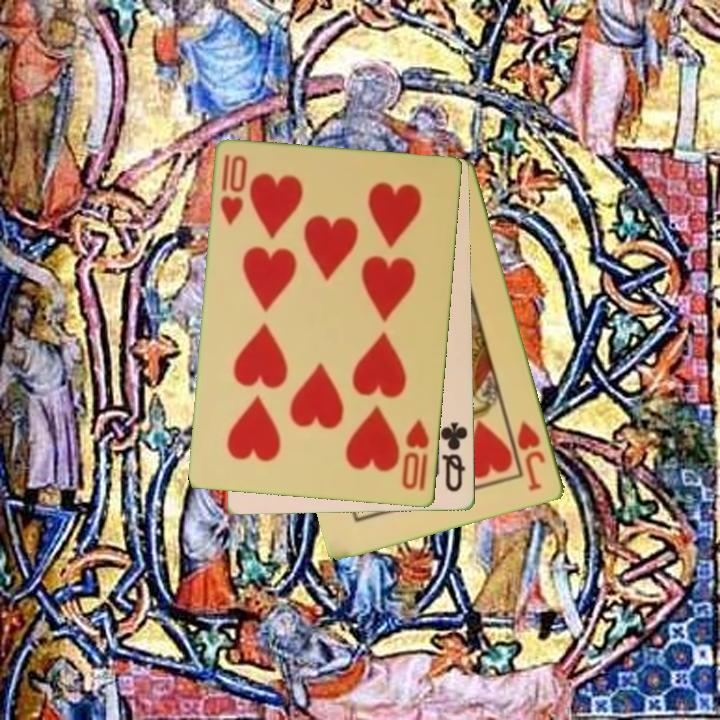10h: (217, 151, 251, 229), (398, 416, 432, 493)
Jh: (514, 418, 549, 495)
Qc: (435, 417, 471, 495)
